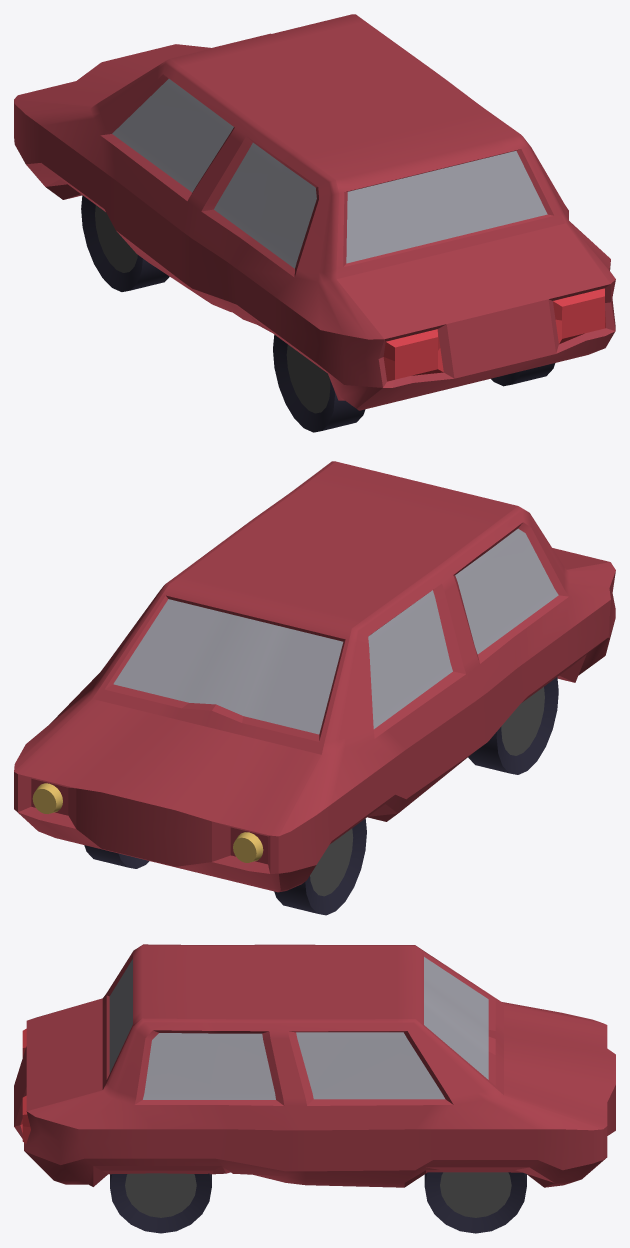
Rendered from WineCar.fbx.
3 renders of one model, top to bottom at view 1: azimuth 30°, elevation 25°; view 2: azimuth 150°, elevation 25°; view 3: azimuth 270°, elevation 25°, orthographic. The views are drawn at different scales.
Parts seen in each view (by area): view 1: pCube2; view 2: pCube2; view 3: pCube2.
Boxes of the visible parts, bbox=[...] form: pCube2: bbox=[14, 14, 615, 432]; pCube2: bbox=[14, 461, 615, 915]; pCube2: bbox=[14, 944, 615, 1233].
Size of what is drawn, in the model's own units: 9.68 by 7.86 by 20.77.
